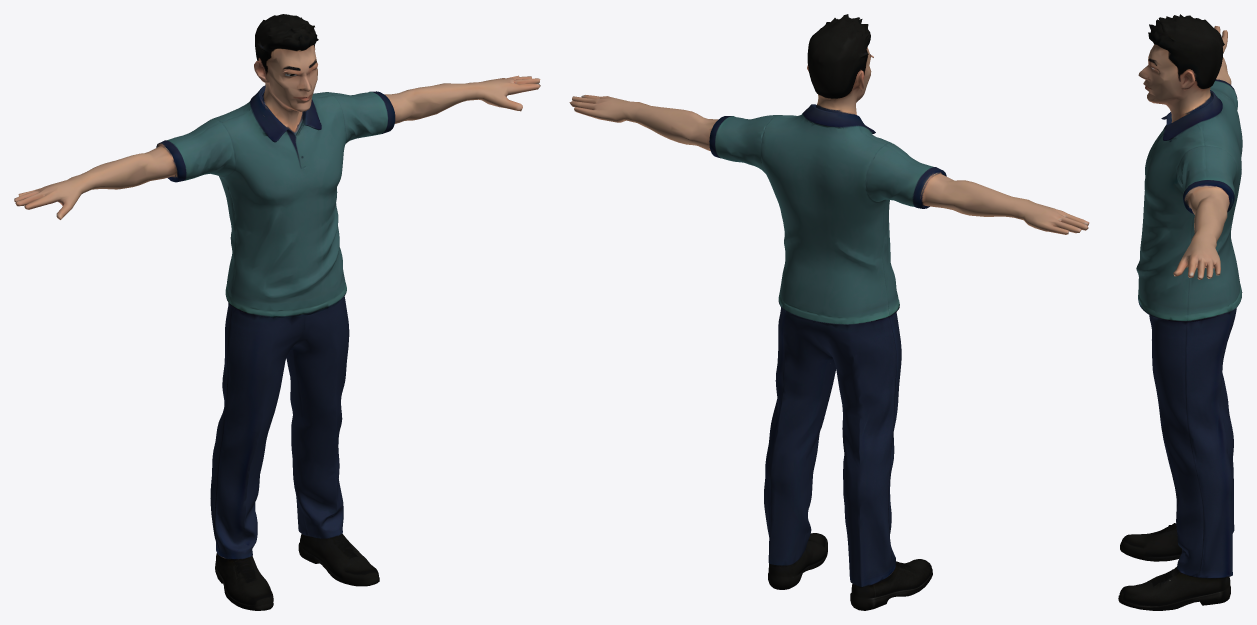
Rendered from linejudge_upright.glb.
3 views of the same model, side by side, from view 1: azimuth 30°, elevation 25°; view 2: azimuth 150°, elevation 25°; view 3: azimuth 270°, elevation 25° (orthographic).
Visible parts, largest first — view 1: tripo_node_4015bbc6-073f-4f1a-a0a2-d4b5a1791236; view 2: tripo_node_4015bbc6-073f-4f1a-a0a2-d4b5a1791236; view 3: tripo_node_4015bbc6-073f-4f1a-a0a2-d4b5a1791236.
Part boxes in pixels (x1,y1,x2,y2): tripo_node_4015bbc6-073f-4f1a-a0a2-d4b5a1791236: (14,14,540,610); tripo_node_4015bbc6-073f-4f1a-a0a2-d4b5a1791236: (569,14,1089,610); tripo_node_4015bbc6-073f-4f1a-a0a2-d4b5a1791236: (1118,14,1242,610).
Size of the model in its own units: 0.9633 by 0.9992 by 0.1997.
Materials: 1 (1 with a texture image).
